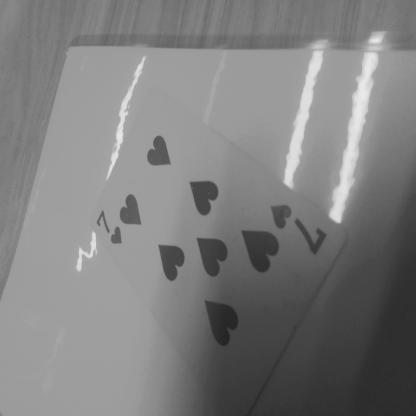7H: (270, 197, 326, 258), (90, 208, 126, 258)
